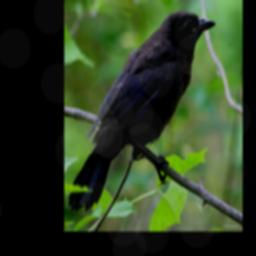Crow: (66, 9, 216, 213)
